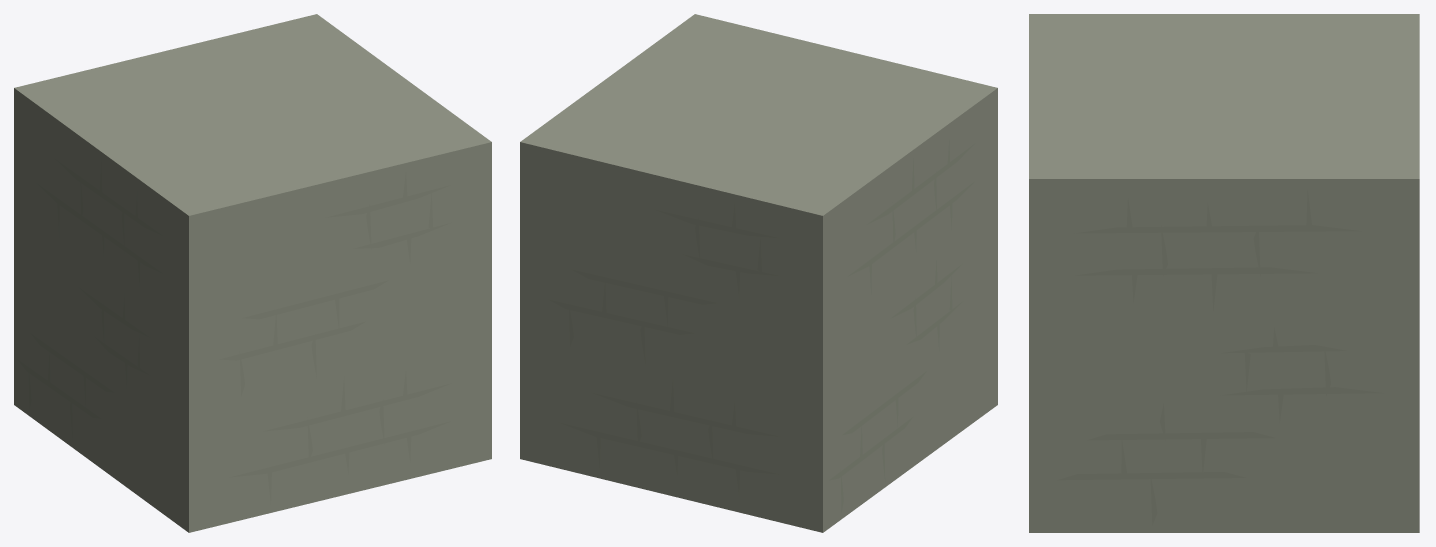
File: base_block_5x5_fixed.fbx
The picture shows the model from 3 angles, left to right: view 1: azimuth 30°, elevation 25°; view 2: azimuth 150°, elevation 25°; view 3: azimuth 270°, elevation 25°; orthographic projection. The views are drawn at different scales.
Visible parts, largest first — view 1: base_block_5x5_fixed; view 2: base_block_5x5_fixed; view 3: base_block_5x5_fixed.
Boxes of the visible parts, x1,y1,x2,y2 form: base_block_5x5_fixed: (14, 14, 491, 532); base_block_5x5_fixed: (520, 14, 997, 532); base_block_5x5_fixed: (1029, 14, 1419, 532).
Size of the model in its own units: 5.06 by 5.06 by 5.
